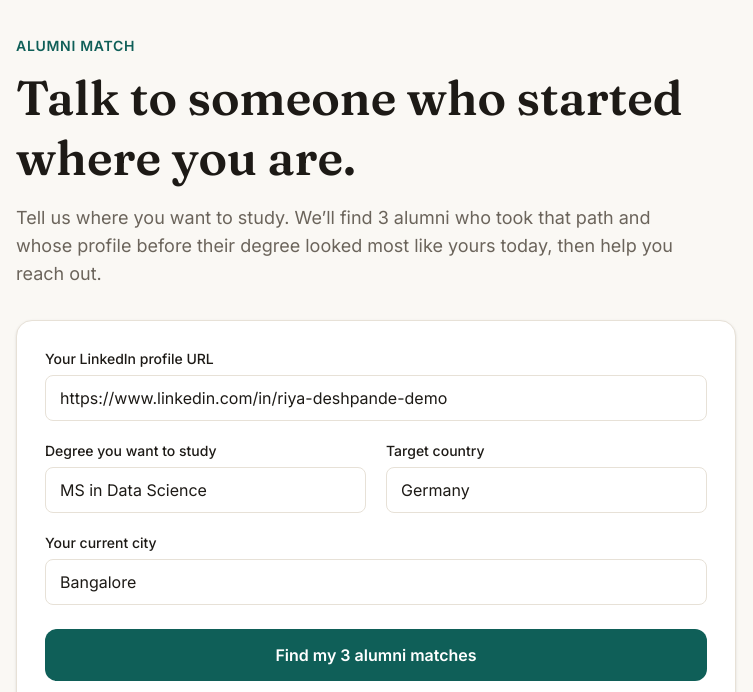
Test: search form › unknown LinkedIn profile: explains why, and the sample buttons fill the form
Replace the text in the field labelled "Your LinkedIn profile URL" with "https://www.linkedin.com/in/someone-else" at (376, 398), box [45,375,707,421]
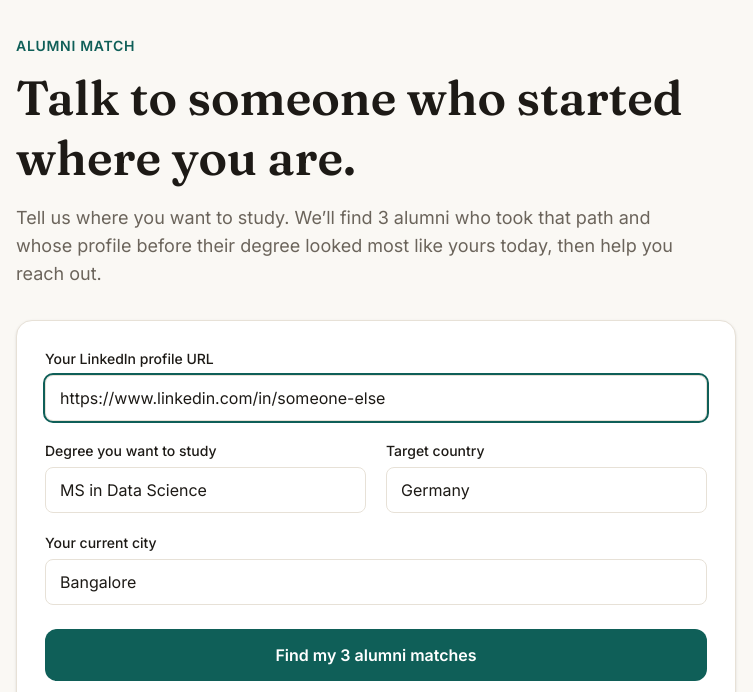
Click the button "Find my 3 alumni matches".
click(376, 655)  # box [45,629,707,681]
(page scrolled)
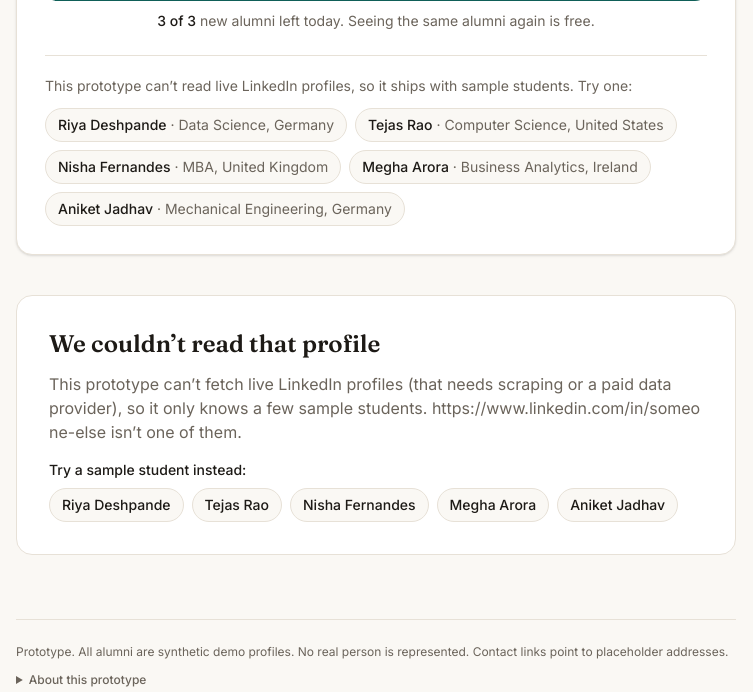
Now the heading "We couldn’t read that profile" is shown, box [49,329,380,358]
Click the button "Megha Arora".
click(493, 505)  # box [437,488,549,522]
(page scrolled)
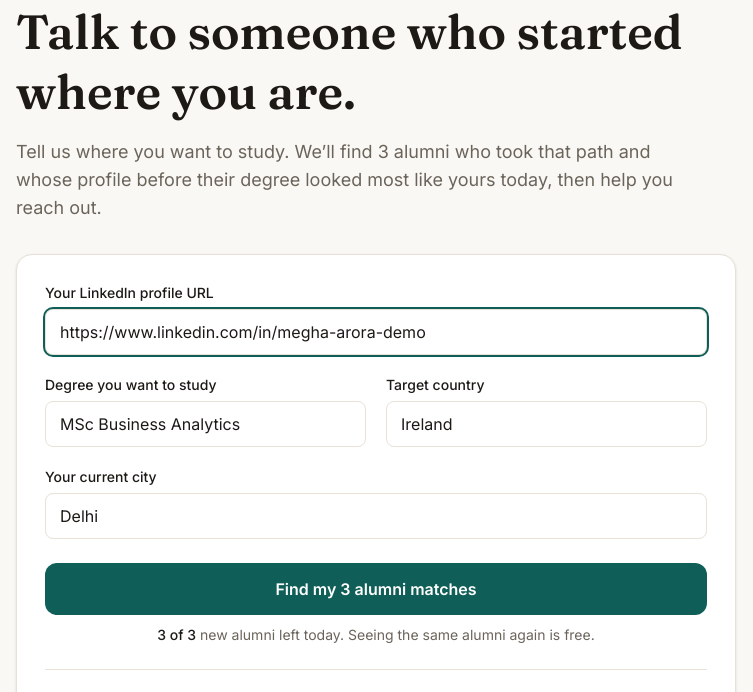
Now the field labelled "Your LinkedIn profile URL" holds "https://www.linkedin.com/in/megha-arora-demo", box [45,309,707,355]
Now the field labelled "Target country" holds "Ireland", box [386,401,707,447]
